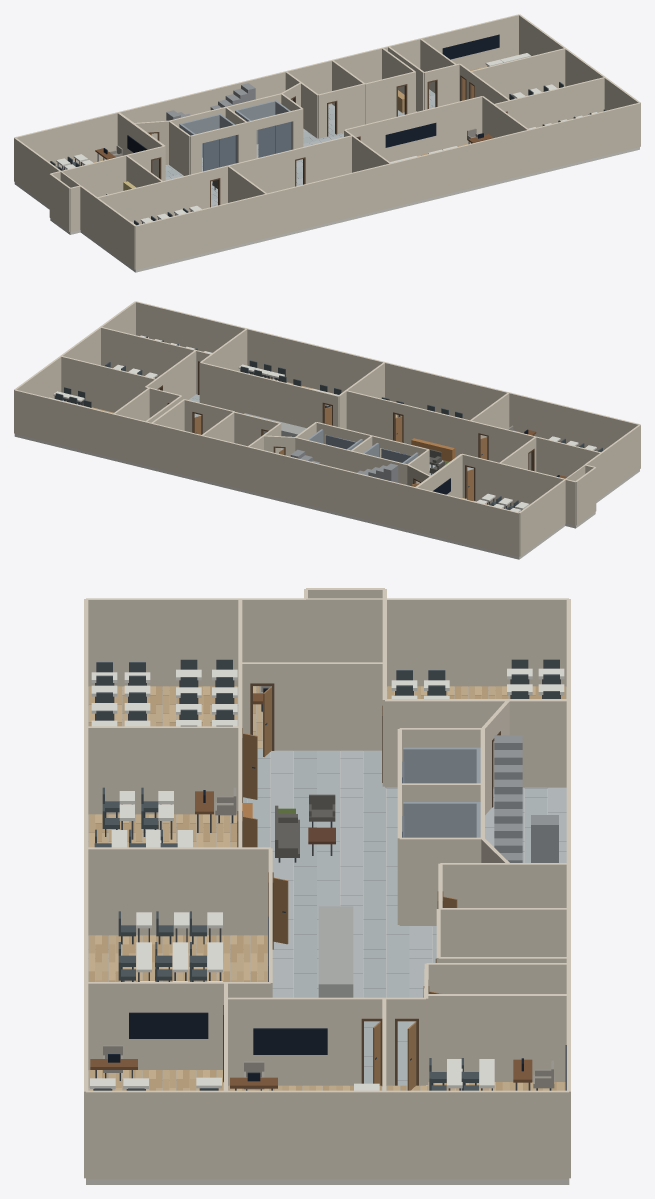
The model's file is bau-floor-3.glb.
3 renders of one model, top to bottom at view 1: azimuth 30°, elevation 25°; view 2: azimuth 150°, elevation 25°; view 3: azimuth 270°, elevation 25°, orthographic. The views are drawn at different scales.
Parts seen in each view (by area): view 1: Wall_20002, Wall_20000, Wall_20031_2, Wall_20012, Wall_20034_2, Wall_20030, Wall_20001, Wall_20003, Wall_20012_2, Wall_20009, Floor_slab, Wall_20012_4 (+31 smaller); view 2: Wall_20000, Wall_20002, Wall_20031_2, Wall_20030, Wall_20034_2, Wall_20012, Wall_20009, Wall_20012_2, Wall_20001, Wall_20007, Wall_20003, Floor_slab (+19 smaller); view 3: Wall_20001, Wall_20003, Wall_20032, Wall_20007, Wall_20013, Wall_20027, Wall_20033, Wall_20011, Wall_20029_4, Wall_20008, Wall_20022, Wall_20021 (+17 smaller).
Part boxes in pixels (x1,y1,x2,y2): Wall_20002: [135, 102, 640, 269]; Wall_20000: [14, 14, 519, 169]; Wall_20031_2: [360, 96, 482, 161]; Wall_20012: [97, 170, 209, 224]; Wall_20034_2: [507, 77, 605, 128]; Wall_20030: [470, 48, 565, 98]; Wall_20001: [519, 14, 640, 145]; Wall_20003: [80, 185, 135, 269]; Wall_20012_2: [219, 149, 294, 204]; Wall_20009: [61, 149, 150, 196]; Floor_slab: [14, 147, 639, 272]; Wall_20012_4: [304, 135, 352, 183]; Wall_20000: [14, 389, 519, 556]; Wall_20002: [136, 301, 640, 451]; Wall_20031_2: [200, 362, 323, 428]; Wall_20030: [61, 356, 156, 412]; Wall_20034_2: [101, 327, 198, 394]; Wall_20012: [488, 425, 600, 476]; Wall_20009: [475, 457, 565, 509]; Wall_20012_2: [403, 404, 478, 457]; Wall_20001: [14, 301, 135, 432]; Wall_20007: [519, 479, 565, 556]; Wall_20003: [584, 424, 640, 500]; Floor_slab: [14, 434, 639, 559]; Wall_20001: [86, 1090, 568, 1179]; Wall_20003: [86, 598, 305, 686]; Wall_20032: [86, 847, 270, 935]; Wall_20007: [385, 598, 568, 686]; Wall_20013: [86, 726, 240, 814]; Wall_20027: [426, 994, 568, 1081]; Wall_20033: [86, 982, 270, 1069]; Wall_20011: [274, 662, 384, 750]; Wall_20029_4: [226, 997, 361, 1085]; Wall_20008: [385, 699, 568, 787]; Wall_20022: [439, 908, 568, 956]; Wall_20021: [440, 863, 568, 907].
Bounding box in the file's own units: 33.59 × 2.9 × 13.71.
